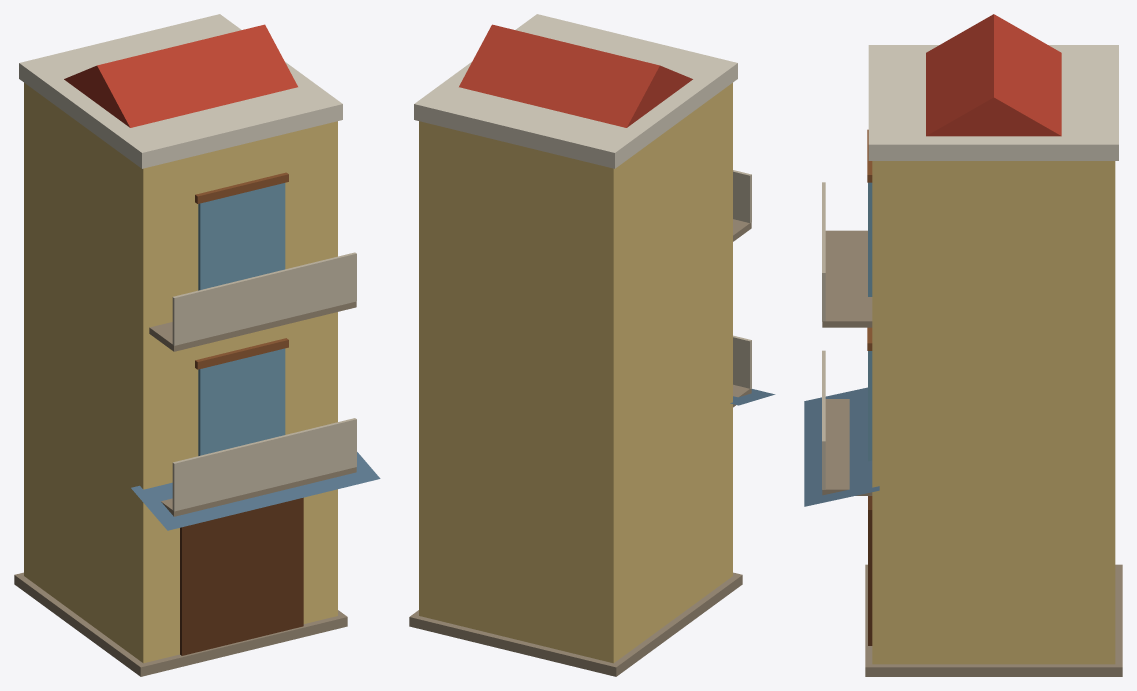
File: nha-ong-2-lau.glb
3 renders of one model, left to right at view 1: azimuth 30°, elevation 25°; view 2: azimuth 150°, elevation 25°; view 3: azimuth 270°, elevation 25°, orthographic.
Visible parts, largest first — view 1: nha-ong-2-lau; view 2: nha-ong-2-lau; view 3: nha-ong-2-lau.
Boxes of the visible parts, box(x1,y1,x2,y2) form: nha-ong-2-lau: box(14, 14, 380, 676); nha-ong-2-lau: box(409, 14, 775, 676); nha-ong-2-lau: box(804, 14, 1122, 676).
Bounding box in the file's own units: 3.5 × 8.8 × 4.45.
